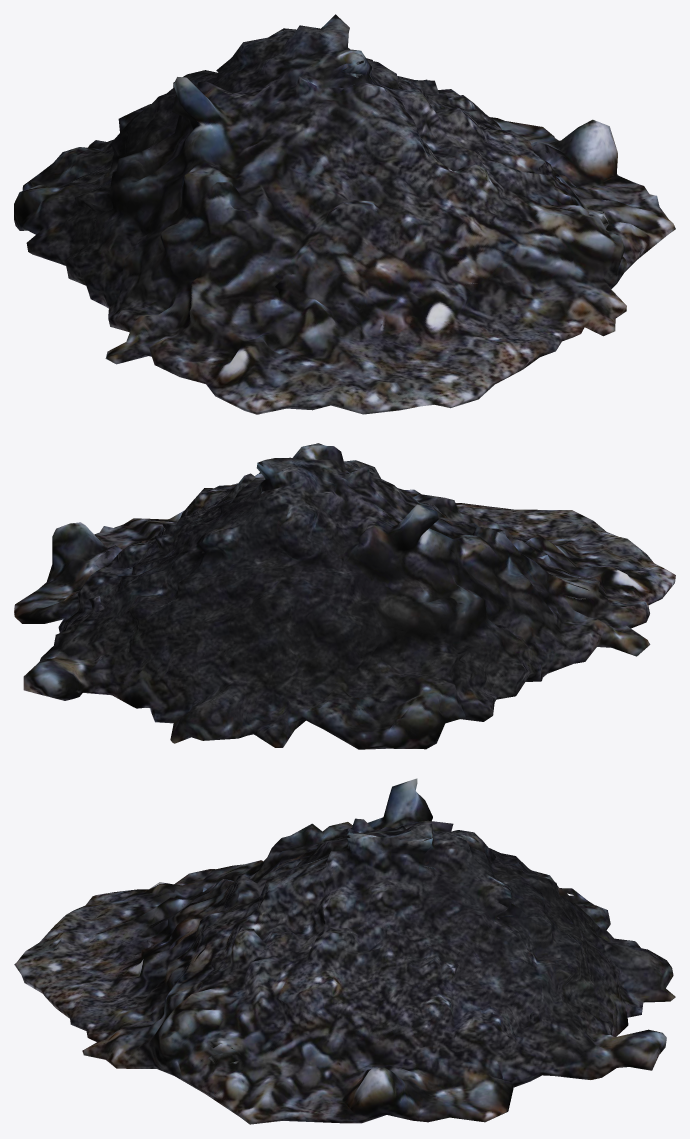
Rendered from Rubble 2.fbx.
3 renders of one model, top to bottom at view 1: azimuth 30°, elevation 25°; view 2: azimuth 150°, elevation 25°; view 3: azimuth 270°, elevation 25°, orthographic. The views are drawn at different scales.
Parts seen in each view (by area): view 1: mesh; view 2: mesh; view 3: mesh.
Part boxes in pixels (<box>): mesh: <box>14,14,675,414</box>; mesh: <box>14,443,675,749</box>; mesh: <box>14,778,675,1124</box>.
Size of the model in its own units: 90.67 by 30.37 by 100.
